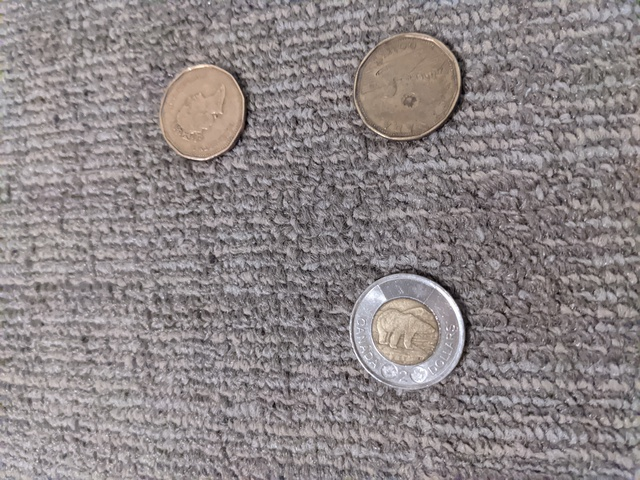loonie: (345, 30, 481, 148), (151, 62, 264, 167)
twonie: (330, 266, 469, 394)
